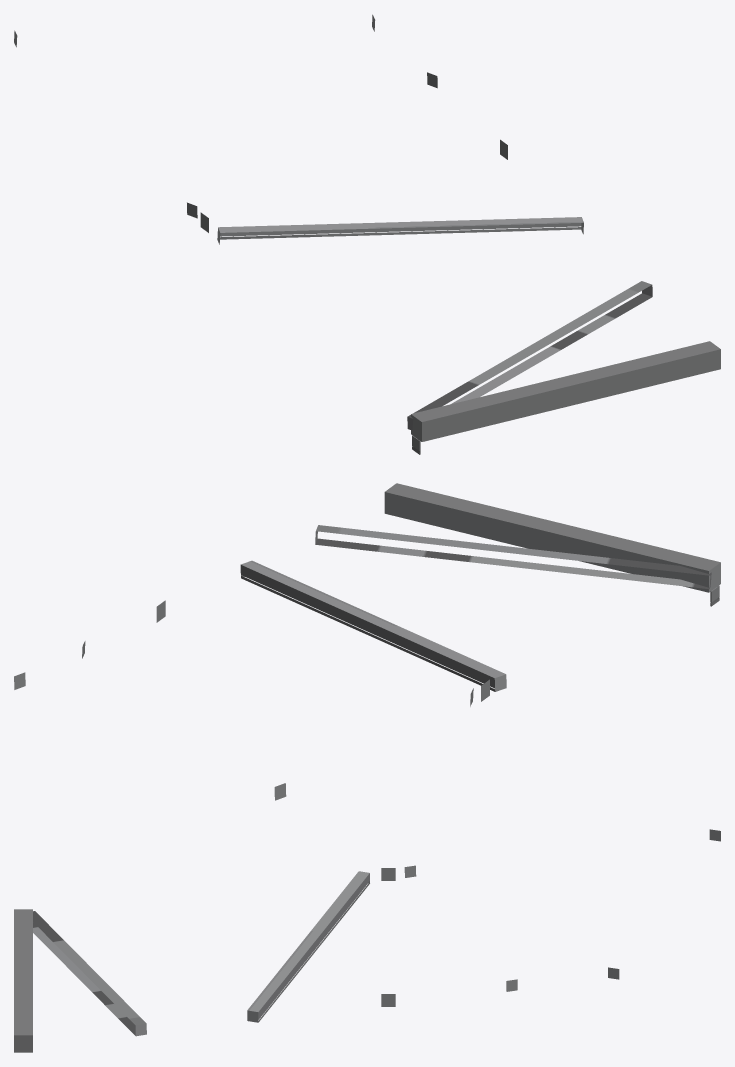
The picture shows the model from 3 angles, top to bottom: view 1: azimuth 30°, elevation 25°; view 2: azimuth 150°, elevation 25°; view 3: azimuth 270°, elevation 25°; orthographic projection. The views are drawn at different scales.
Size of the model in its own units: 1.02 by 0.4022 by 2.37.
